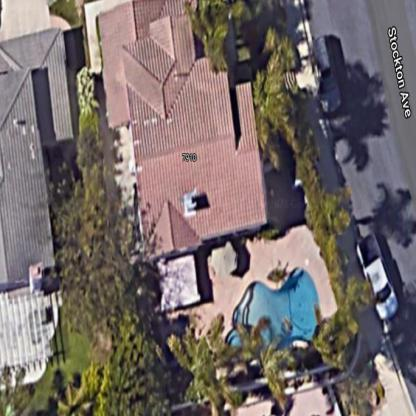pool: (221, 264, 325, 372)
